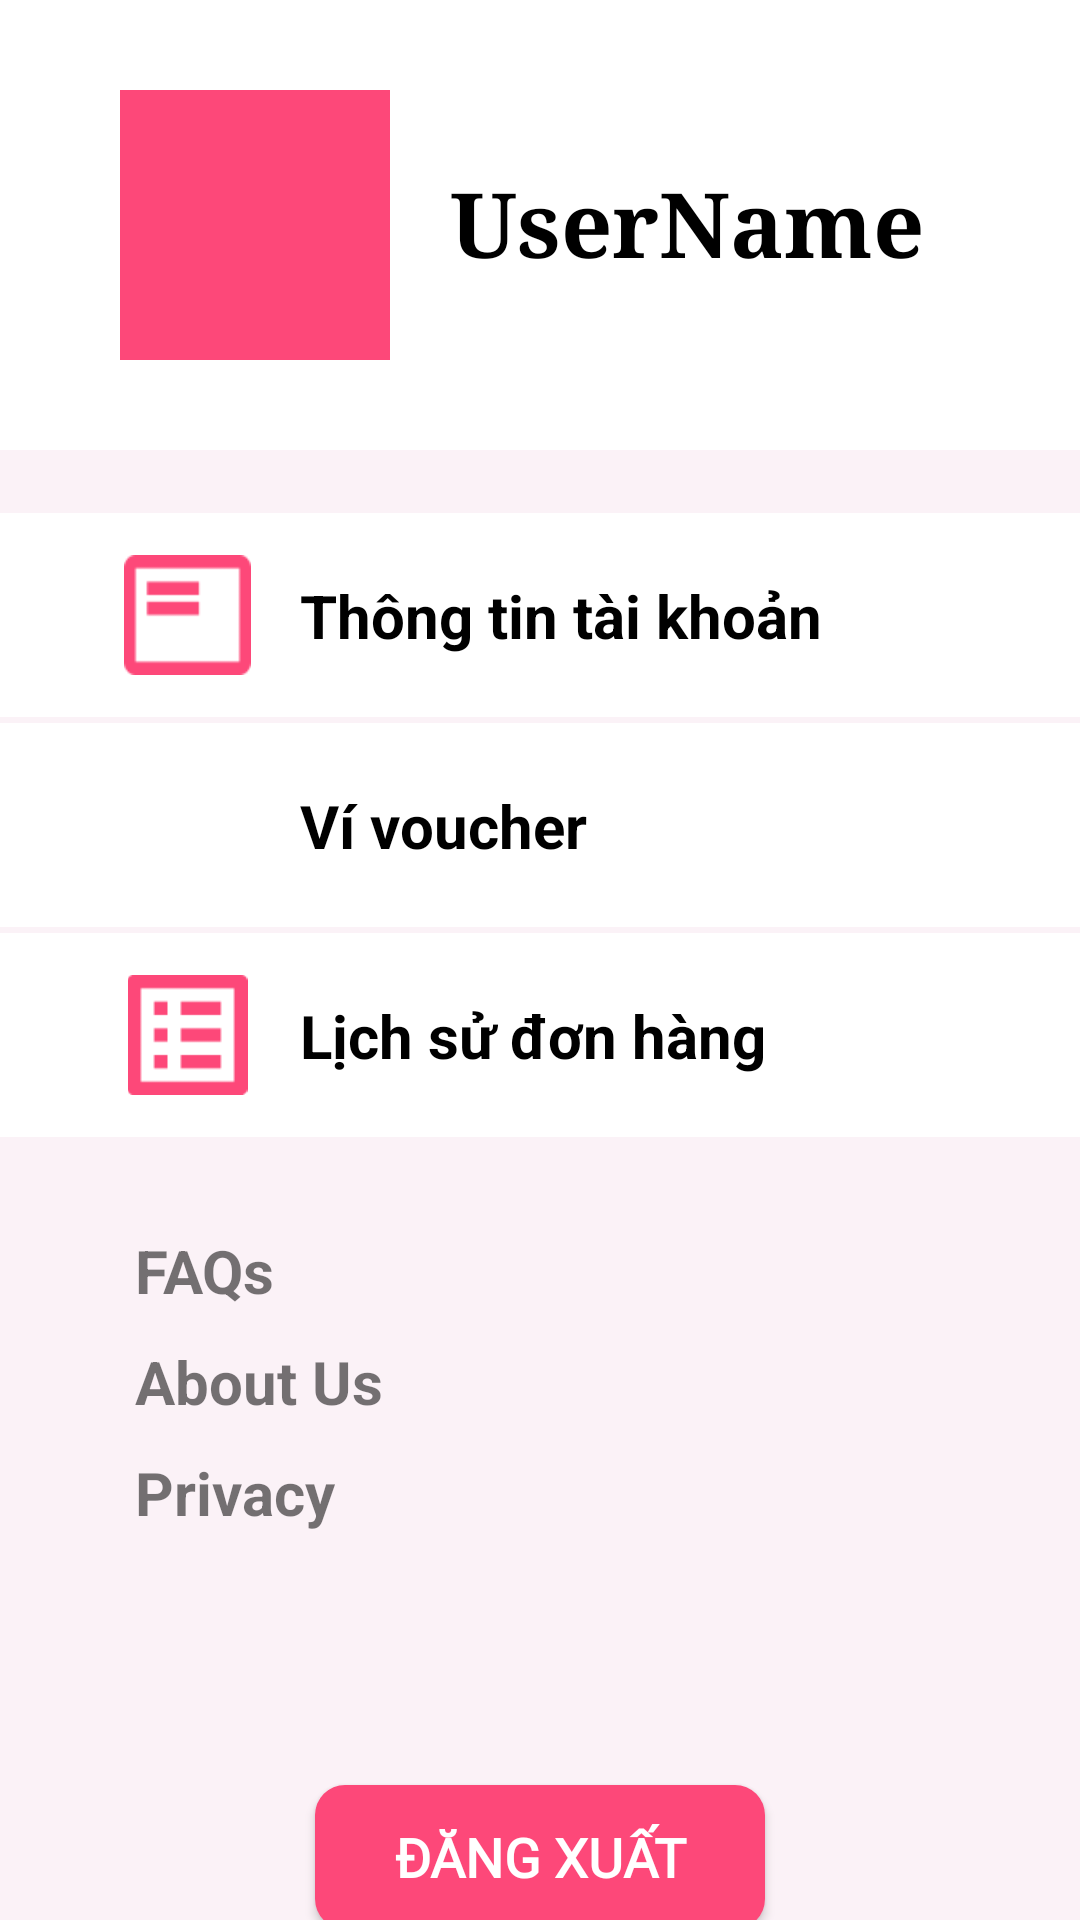

Locate icon controls on the screen. Image size 1080*1920, boxes as (x1, y1, x2, y2).
userinfo: (124, 555, 251, 675)
userorders: (128, 975, 248, 1095)
